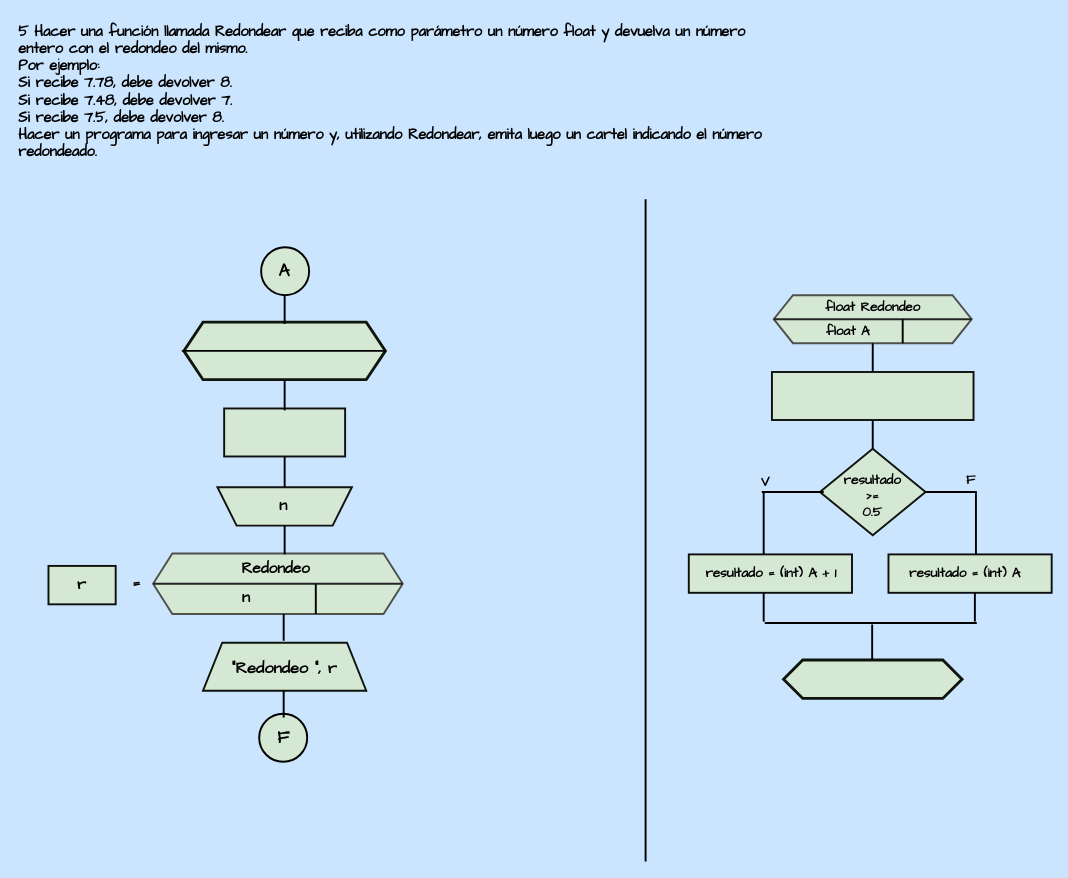
Some shapes in this 1068 by 878 pixel diagram are drawn without their labels. Each missing label, with the box of its shape:
float n int r = 0: (223, 407, 346, 457)
int F = A float resultado = A - F: (770, 371, 974, 420)
int main: (182, 320, 386, 381)
return resultado: (782, 658, 963, 699)
